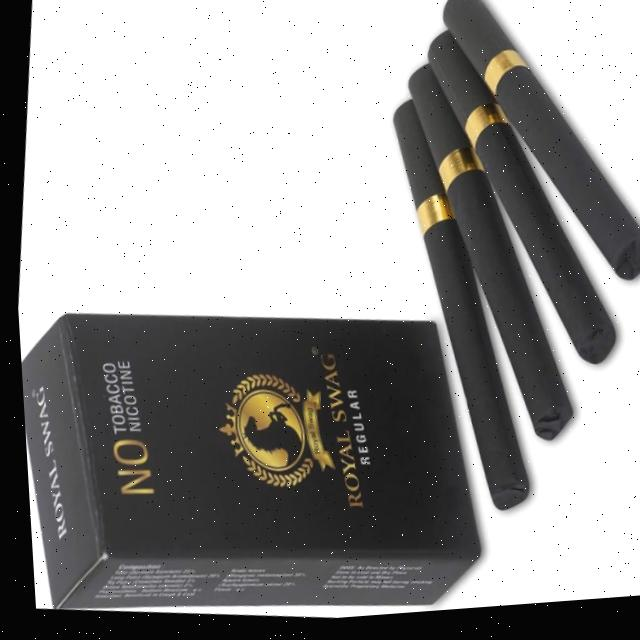cigarette: (408, 60, 573, 437), (428, 36, 616, 363), (394, 97, 532, 510), (442, 0, 640, 279)
